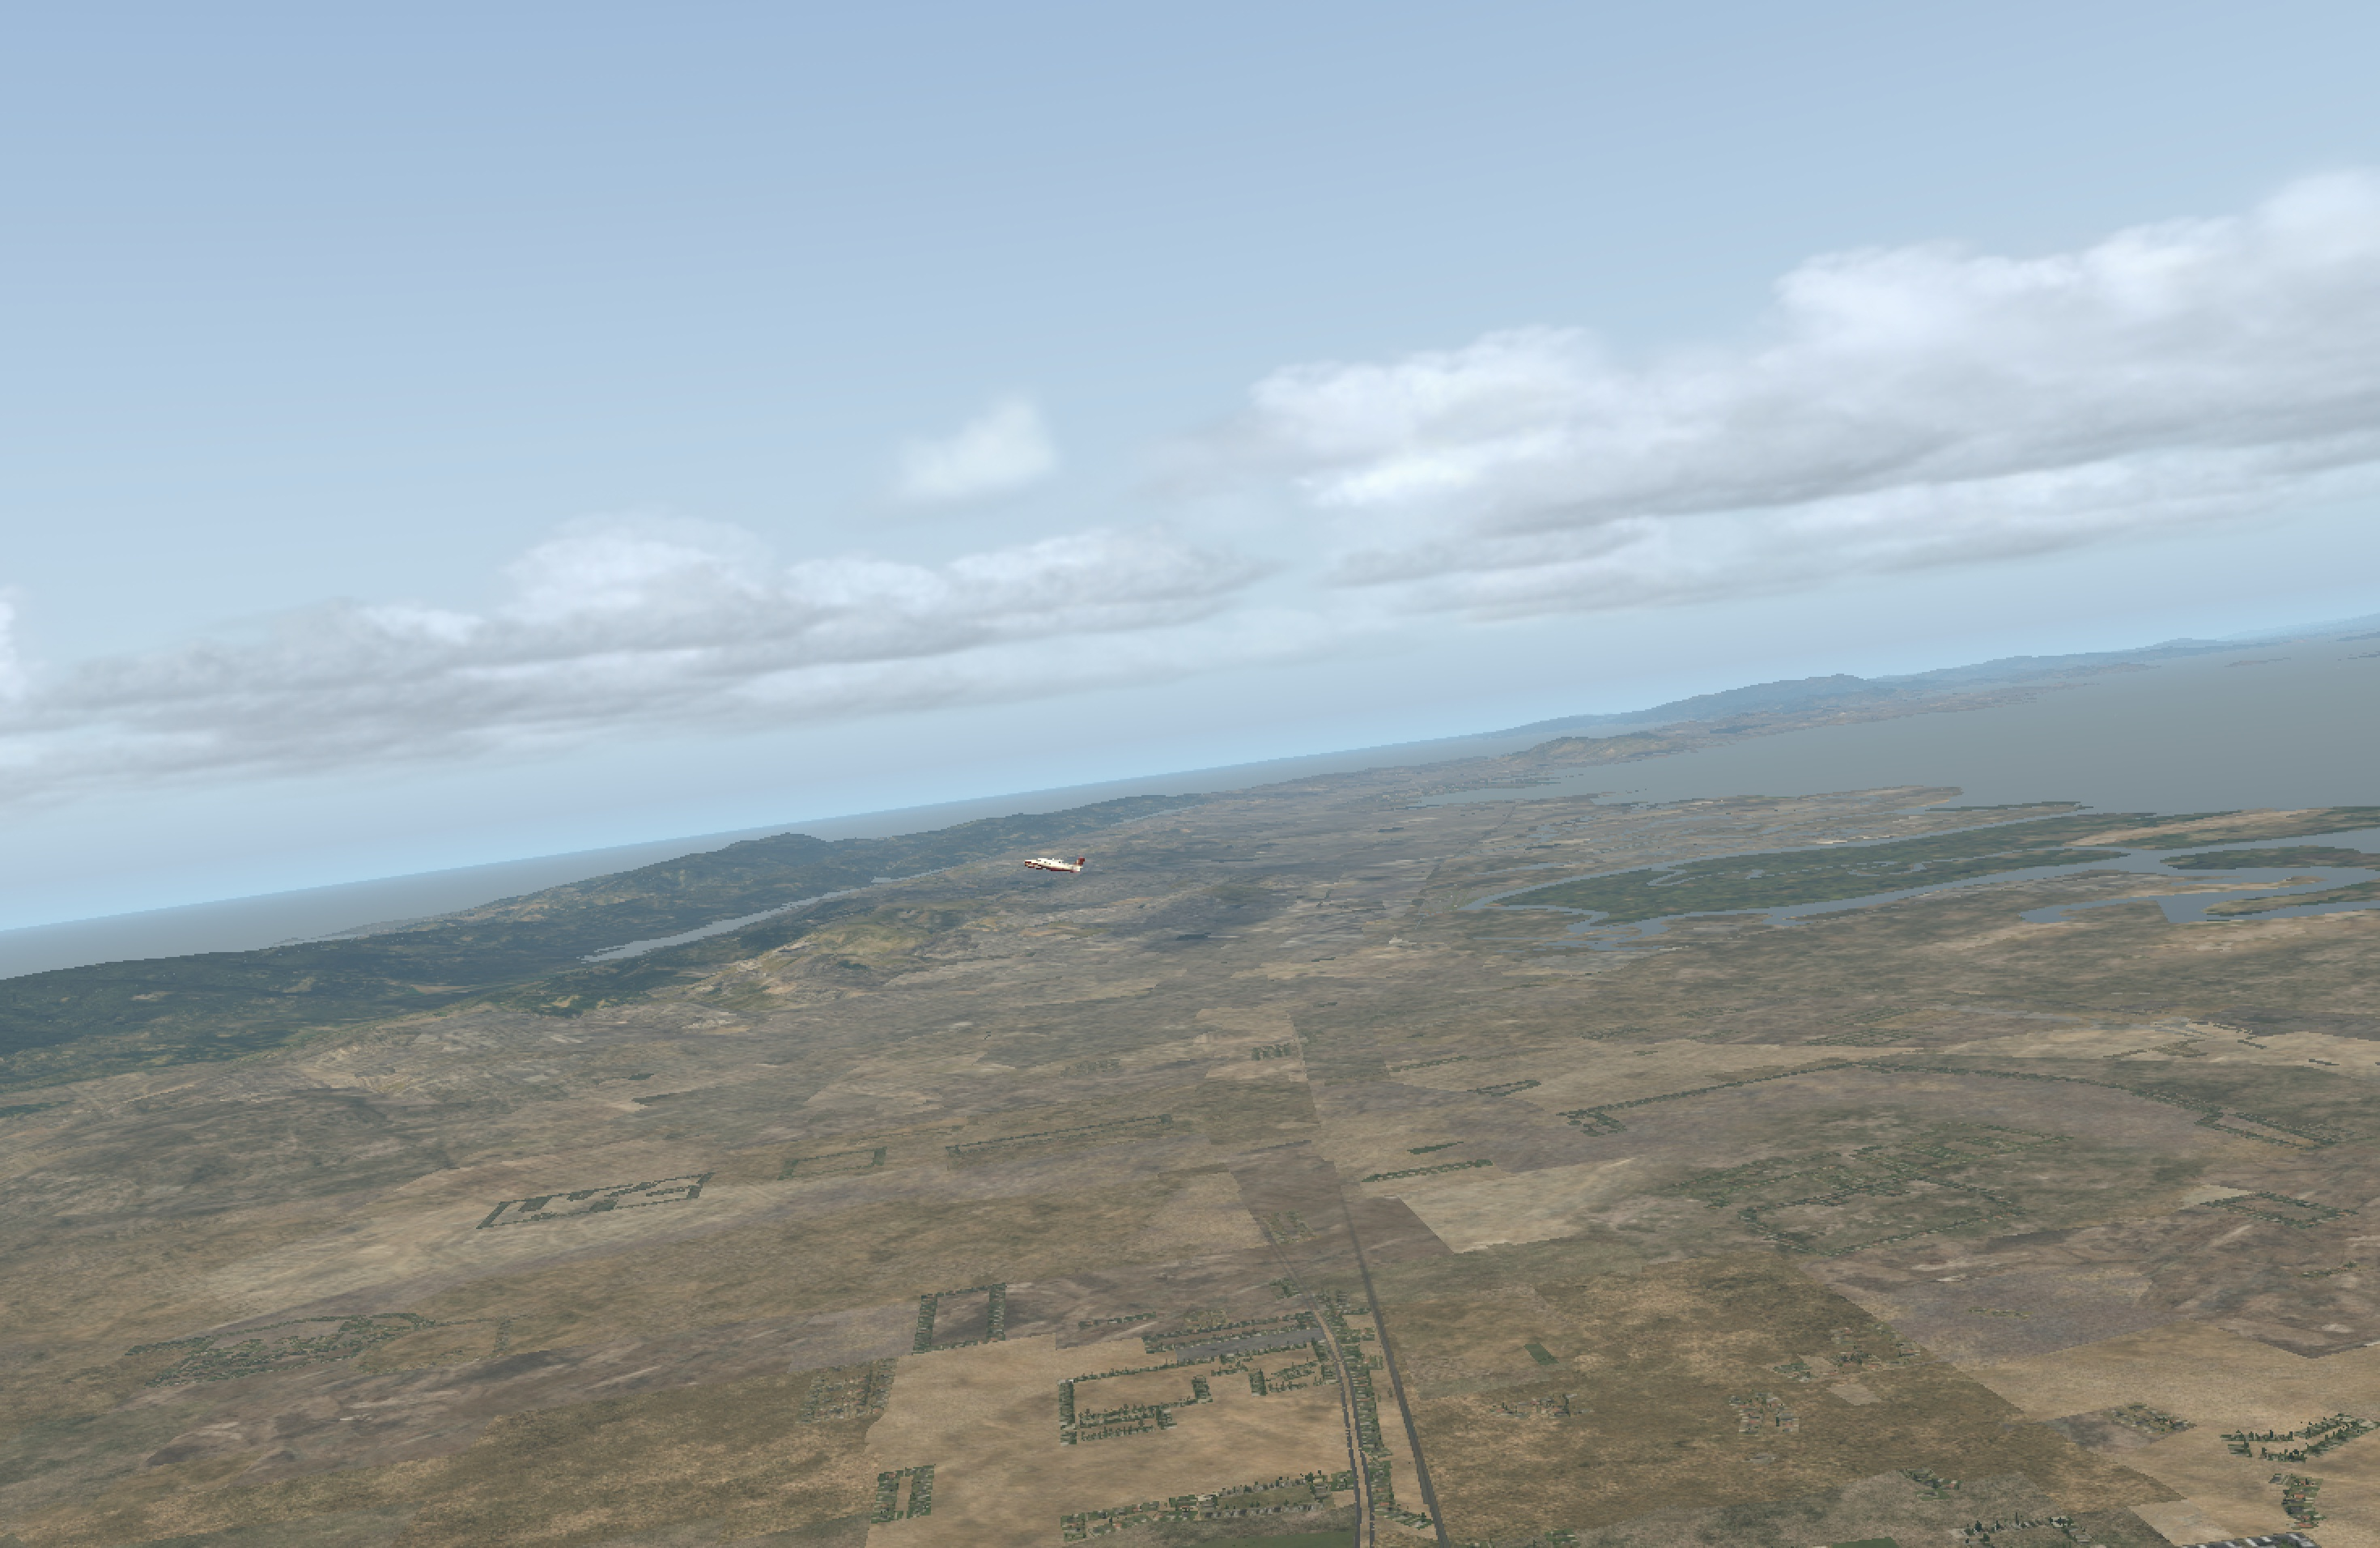aircraft: (997, 850, 1088, 885)
